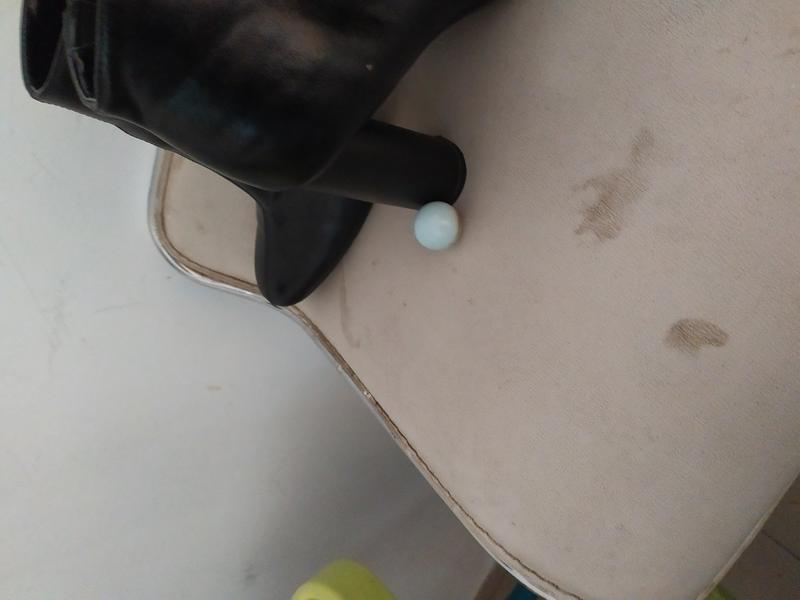Warning: (412, 200, 465, 253)
